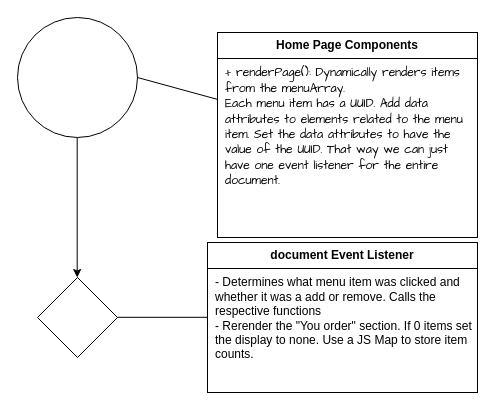
This 495x410 diagram has some shape labels left out. Here are the shapes that lost their labels. From the top down, the centre of each, then its label:
At point 77,77: "Home Page".
At point 77,317: "Add Menu Items".
